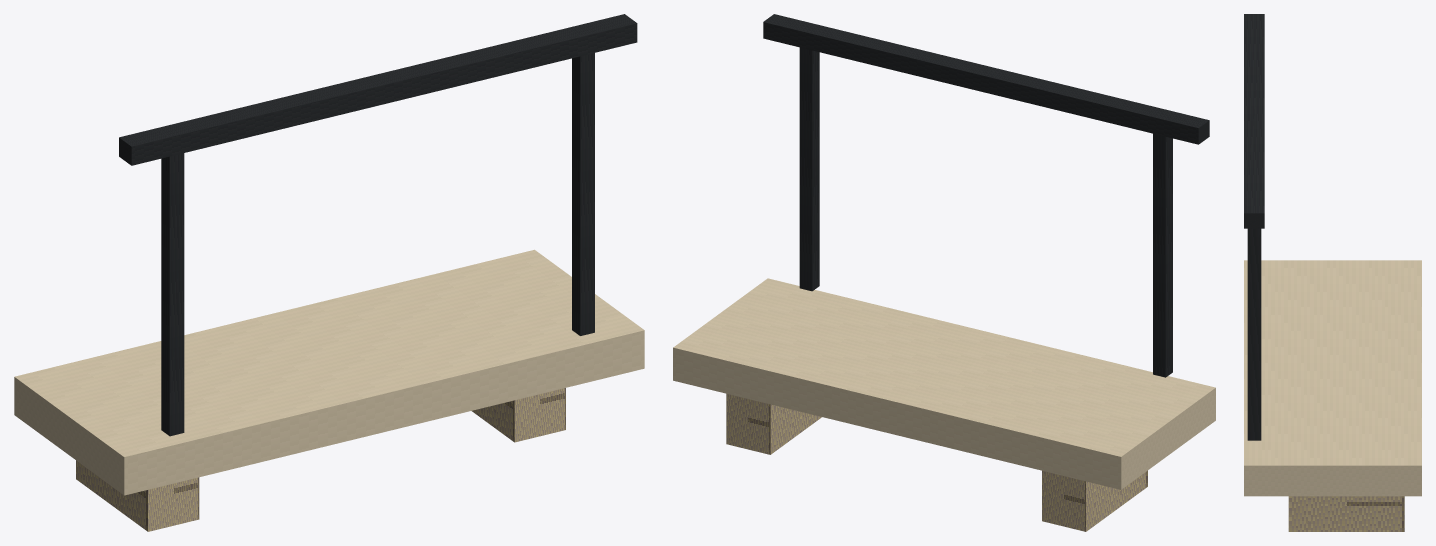
File: balcony-lod1.glb
3 renders of one model, left to right at view 1: azimuth 30°, elevation 25°; view 2: azimuth 150°, elevation 25°; view 3: azimuth 270°, elevation 25°, orthographic. The views are drawn at different scales.
Visible parts, largest first — view 1: balcony-lod1; view 2: balcony-lod1; view 3: balcony-lod1.
Boxes of the visible parts, box(x1,y1,x2,y2) form: balcony-lod1: box(14, 14, 644, 531); balcony-lod1: box(673, 14, 1215, 531); balcony-lod1: box(1244, 14, 1421, 531).
Bounding box in the file's own units: 1.42 × 1.08 × 0.52.
1 material, 1 textured.
